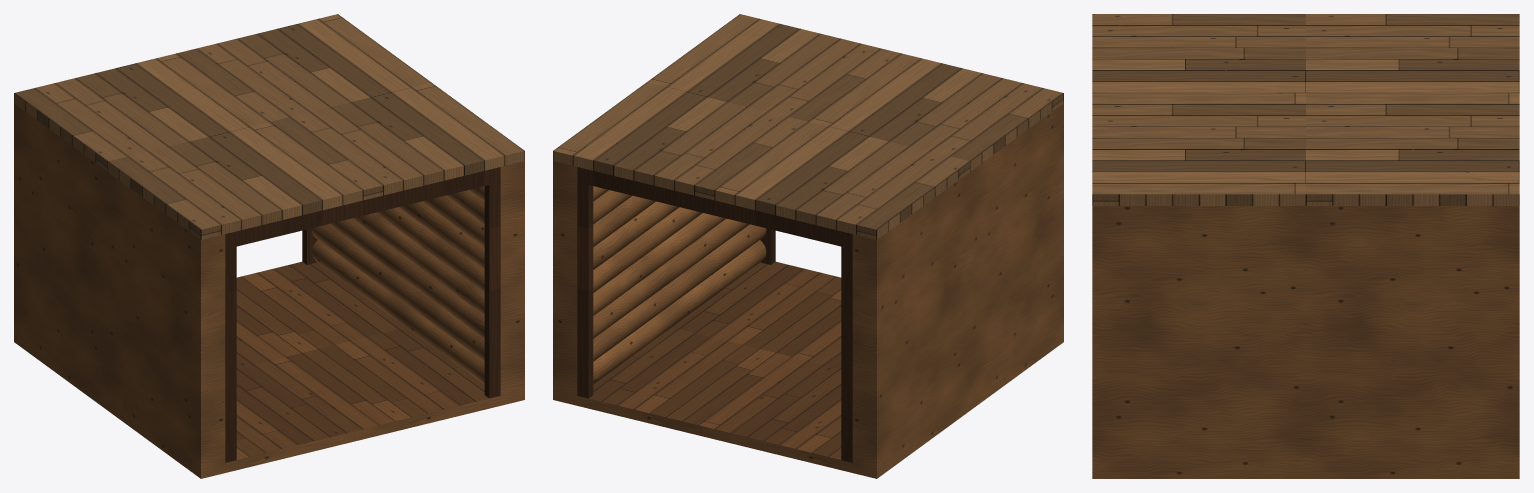
File: Corridor_Cabin_Straight_NoLight.glb
3 views of the same model, side by side, from view 1: azimuth 30°, elevation 25°; view 2: azimuth 150°, elevation 25°; view 3: azimuth 270°, elevation 25° (orthographic). The views are drawn at different scales.
Visible parts, largest first — view 1: Corridor_Cabin_Straight_NoLight, Corridor_Cabin_Straight_NoLight_Ceiling; view 2: Corridor_Cabin_Straight_NoLight, Corridor_Cabin_Straight_NoLight_Ceiling; view 3: Corridor_Cabin_Straight_NoLight, Corridor_Cabin_Straight_NoLight_Ceiling.
Boxes of the visible parts, x1=… form: Corridor_Cabin_Straight_NoLight: x1=14, y1=103, x2=524, y2=478; Corridor_Cabin_Straight_NoLight_Ceiling: x1=14, y1=14, x2=524, y2=246; Corridor_Cabin_Straight_NoLight: x1=553, y1=103, x2=1063, y2=478; Corridor_Cabin_Straight_NoLight_Ceiling: x1=553, y1=14, x2=1063, y2=248; Corridor_Cabin_Straight_NoLight: x1=1092, y1=206, x2=1519, y2=478; Corridor_Cabin_Straight_NoLight_Ceiling: x1=1092, y1=14, x2=1519, y2=205.
Size of the model in its own units: 4 by 2.94 by 4.
5 materials, 5 textured.
